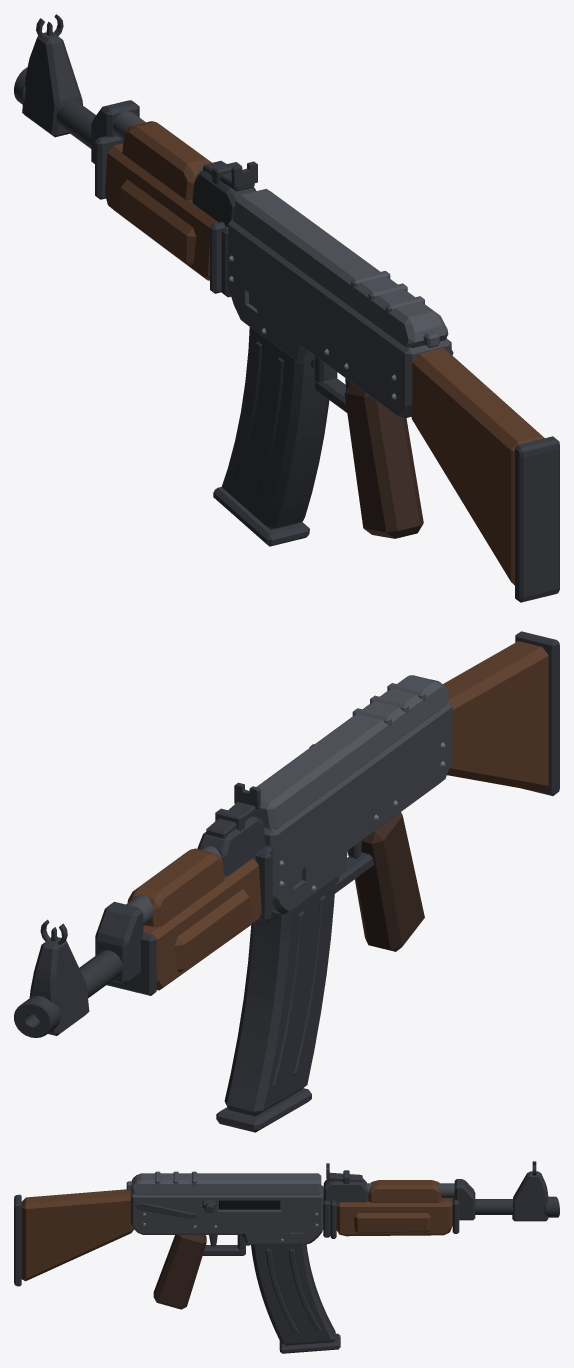
File: w_ar@ar_classic.glb
3 views of the same model, one above another, from view 1: azimuth 30°, elevation 25°; view 2: azimuth 150°, elevation 25°; view 3: azimuth 270°, elevation 25° (orthographic). The views are drawn at different scales.
Parts seen in each view (by area): view 1: body_wzB, mag_wzB, stock_wzA, body_wzA, guard_wzA, barrel_wzB, grip_wzB, stock_wzB, sight_wzB, sight_wzN, grip_wzB.001; view 2: mag_wzB, body_wzB, stock_wzA, barrel_wzB, guard_wzA, body_wzA, grip_wzB, stock_wzB, sight_wzB, sight_wzN, grip_wzB.001; view 3: body_wzB, stock_wzA, mag_wzB, guard_wzA, body_wzA, barrel_wzB, grip_wzB, sight_wzB, stock_wzB, grip_wzB.001, trim_wzN, sight_wzN (+1 smaller).
Boxes of the visible parts, x1,y1,x2,y2 form: body_wzB: (113,111,451,418); mag_wzB: (213,327,329,546); stock_wzA: (411,348,544,585); body_wzA: (232,188,448,348); guard_wzA: (105,121,217,280); barrel_wzB: (14,32,230,297); grip_wzB: (344,383,423,538); stock_wzB: (515,436,559,602); sight_wzB: (192,170,256,226); sight_wzN: (36,14,257,191); grip_wzB.001: (311,356,351,412); mag_wzB: (216,878,335,1132); body_wzB: (126,701,452,925); stock_wzA: (443,641,548,791); barrel_wzB: (14,845,272,1037); guard_wzA: (127,848,261,990); body_wzA: (252,675,449,829); grip_wzB: (355,812,424,951); stock_wzB: (515,631,559,795); sight_wzB: (197,816,265,876); sight_wzN: (40,782,260,944); grip_wzB.001: (334,840,374,893); body_wzB: (130,1183,454,1244); stock_wzA: (21,1189,133,1281); mag_wzB: (251,1244,340,1353); guard_wzA: (336,1180,452,1236); body_wzA: (126,1171,321,1194); barrel_wzB: (323,1171,559,1238); grip_wzB: (153,1235,206,1309); sight_wzB: (323,1178,368,1204); stock_wzB: (14,1194,21,1286); grip_wzB.001: (202,1235,249,1255); trim_wzN: (219,1200,280,1209); sight_wzN: (326,1161,536,1183).
Bounding box in the file's own units: 0.104 × 0.4462 × 1.19.
